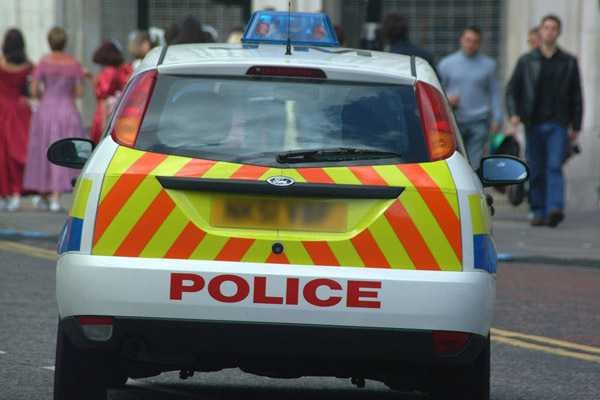Police Car: (63, 2, 510, 400)
